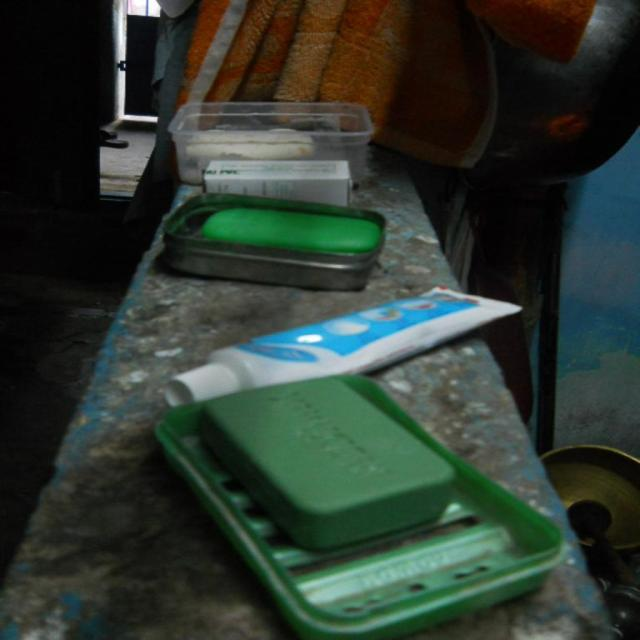Toothpaste: (168, 284, 526, 402)
